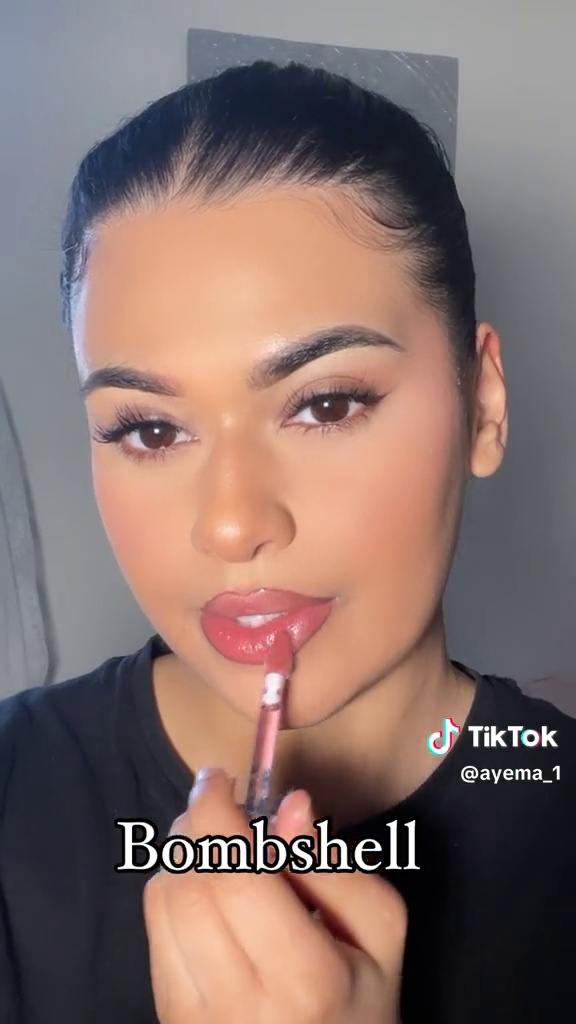train' :'yolo_data/train/images',: (216, 622, 319, 884)
